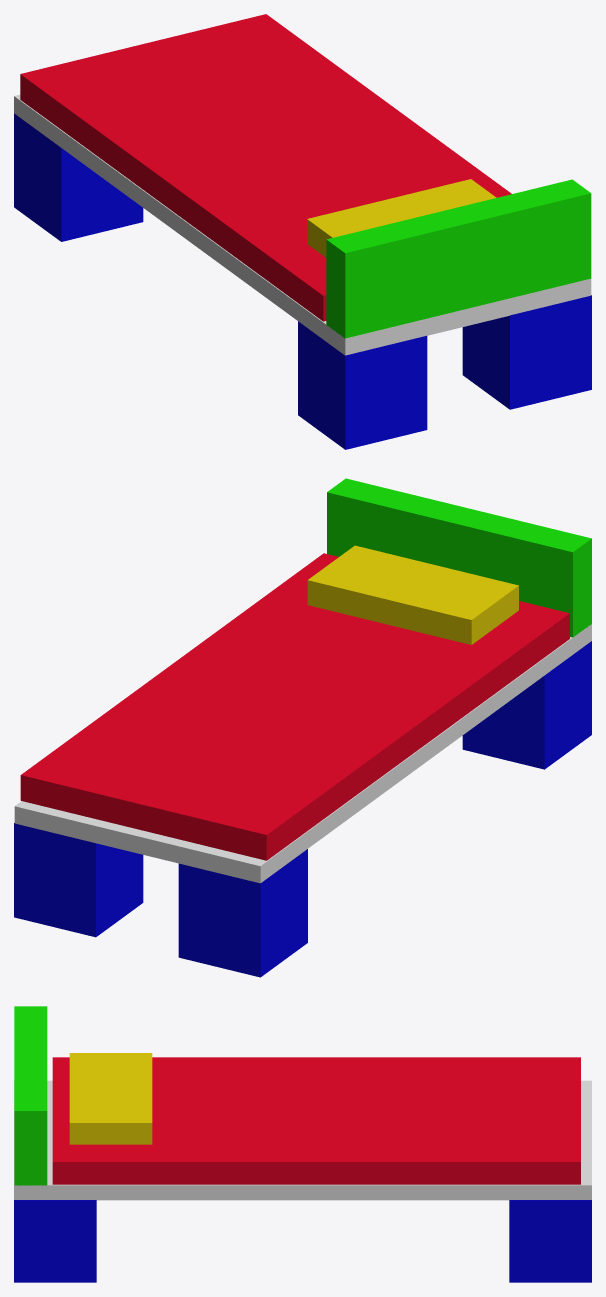
3 renders of one model, top to bottom at view 1: azimuth 30°, elevation 25°; view 2: azimuth 150°, elevation 25°; view 3: azimuth 270°, elevation 25°, orthographic. The views are drawn at different scales.
Parts seen in each view (by area): view 1: Box026, Box025, Box027, Box024, Box028; view 2: Box026, Box025, Box027, Box028, Box024; view 3: Box026, Box025, Box024, Box028, Box027.
Boxes of the visible parts, x1,y1,x2,y2 form: Box026: (20, 14, 511, 321); Box025: (14, 113, 591, 449); Box027: (326, 179, 591, 338); Box024: (14, 94, 591, 355); Box028: (307, 179, 496, 257); Box026: (20, 553, 569, 860); Box025: (14, 641, 591, 977); Box027: (327, 478, 591, 637); Box028: (307, 545, 518, 644); Box024: (14, 624, 591, 883); Box026: (52, 1057, 580, 1184); Box025: (14, 1200, 591, 1282); Box024: (14, 1080, 591, 1200); Box028: (69, 1053, 152, 1144); Box027: (14, 1006, 47, 1185).
Size of the model in its own units: 15.03 by 11.45 by 35.
